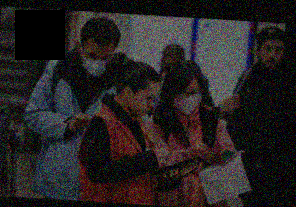with_mask: (172, 85, 203, 117), (81, 50, 112, 81)
without_mask: (131, 90, 158, 118), (257, 43, 284, 70)
